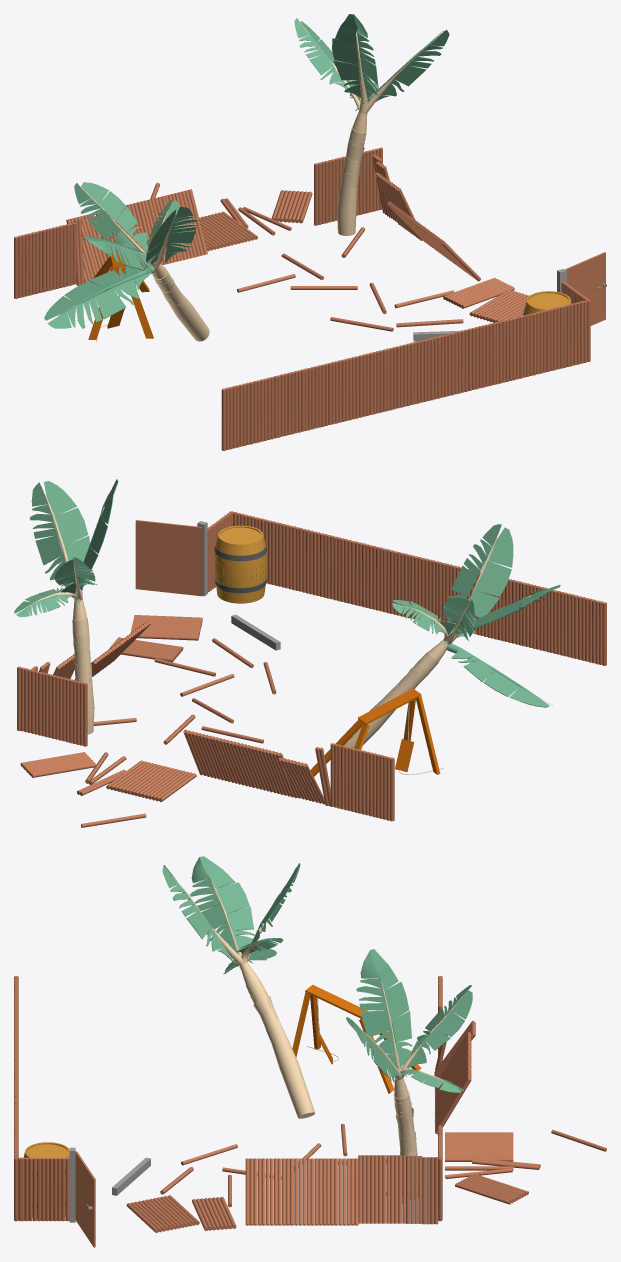
File: Yard.fbx
3 renders of one model, top to bottom at view 1: azimuth 30°, elevation 25°; view 2: azimuth 150°, elevation 25°; view 3: azimuth 270°, elevation 25°, orthographic. The views are drawn at different scales.
Parts seen in each view (by area): view 1: Bamboo; view 2: Bamboo; view 3: Bamboo.
Boxes of the visible parts, box(x1,y1,x2,y2) form: Bamboo: box(14, 14, 606, 450); Bamboo: box(14, 479, 606, 827); Bamboo: box(14, 856, 606, 1247).
Size of the model in its own units: 2117 by 1076 by 2204.
Materials: 1 (1 with a texture image).
